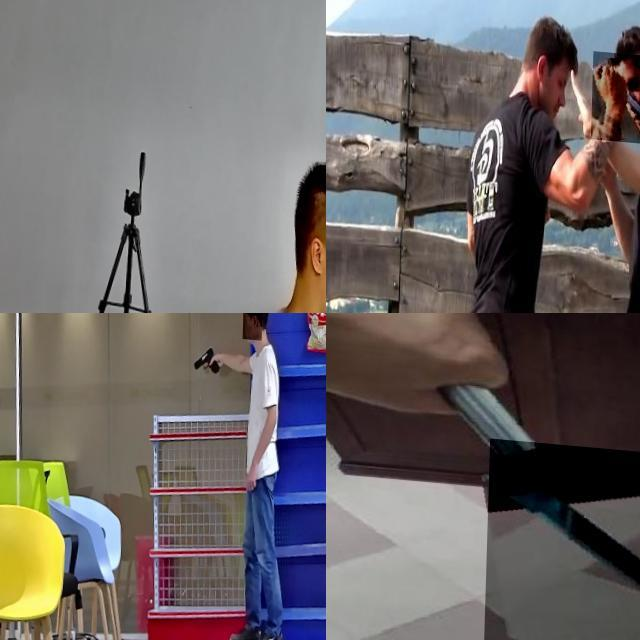-: (486, 434, 640, 640), (592, 43, 640, 136)
gun-knife-thesis - v11 Yolov5 augmented: (243, 313, 263, 332)
